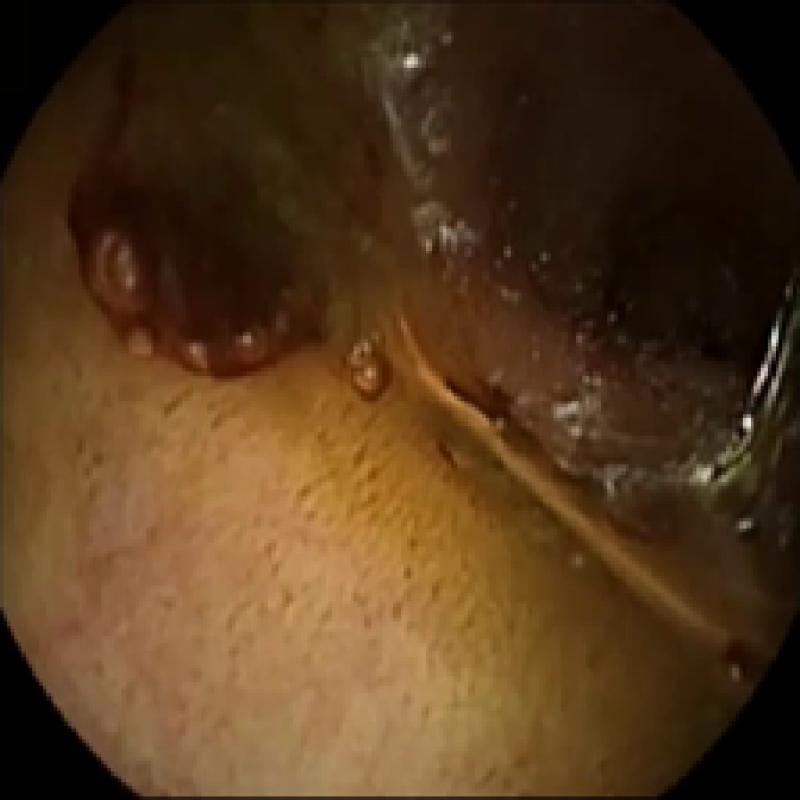bleeding: (57, 32, 354, 382), (446, 381, 526, 426)
